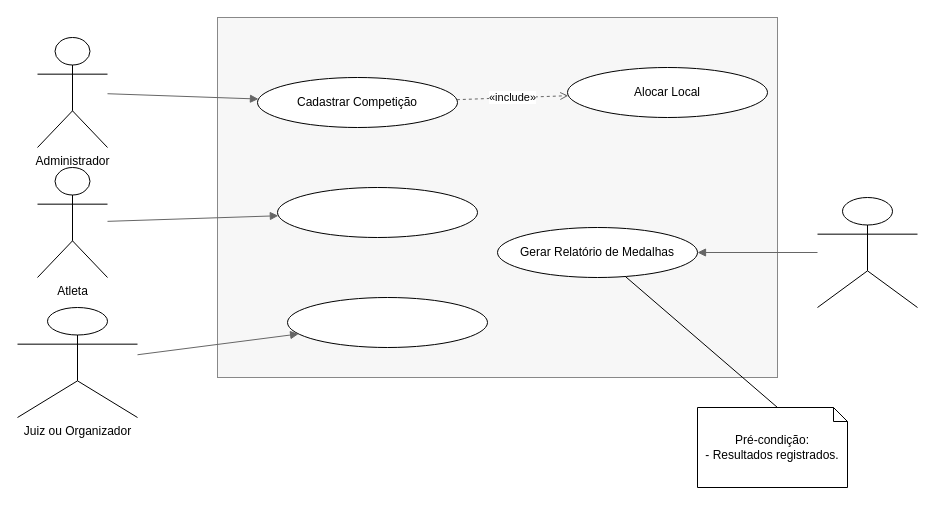
The diagram is 935 pixels wide and 505 high, and some of its shapes have lost their labels. Each missing label, with the box of its shape:
Comitê Olímpico: (816, 196, 918, 308)
Inscrever Atleta: (276, 186, 478, 238)
Registrar Resultados: (286, 296, 488, 348)
